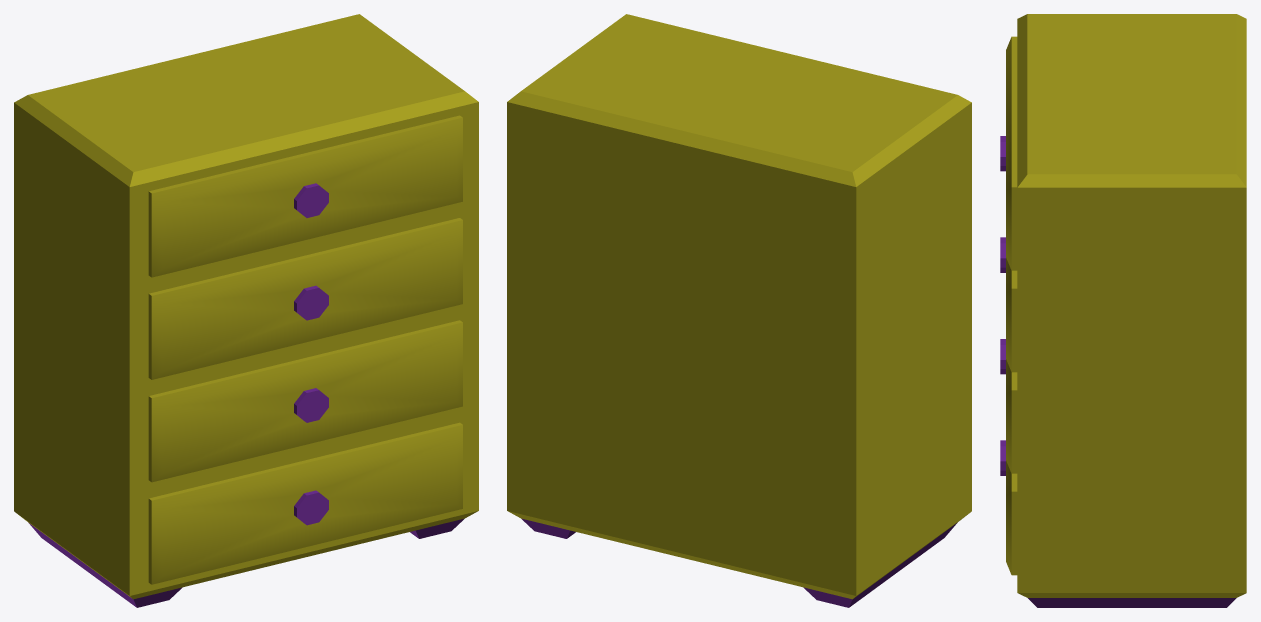
The model's file is comoda.FBX.
The picture shows the model from 3 angles, left to right: view 1: azimuth 30°, elevation 25°; view 2: azimuth 150°, elevation 25°; view 3: azimuth 270°, elevation 25°; orthographic projection.
Visible parts, largest first — view 1: Box001; view 2: Box001; view 3: Box001.
Boxes of the visible parts, left/top/right/bottom form: Box001: left=14, top=14, right=478, bottom=607; Box001: left=507, top=14, right=971, bottom=607; Box001: left=1000, top=14, right=1246, bottom=607.
Bounding box in the file's own units: 61.5 × 74.31 × 37.94.
